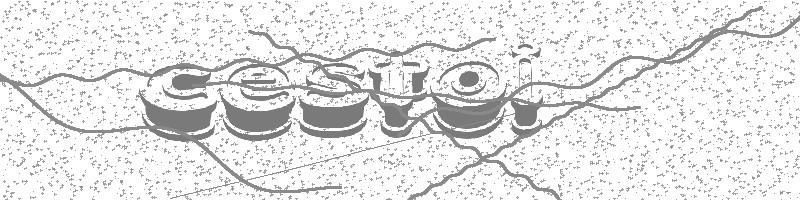c: (138, 63, 219, 141)
e: (219, 62, 296, 141)
i: (506, 42, 543, 137)
o: (430, 59, 507, 139)
s: (298, 62, 370, 139)
t: (368, 52, 429, 138)
